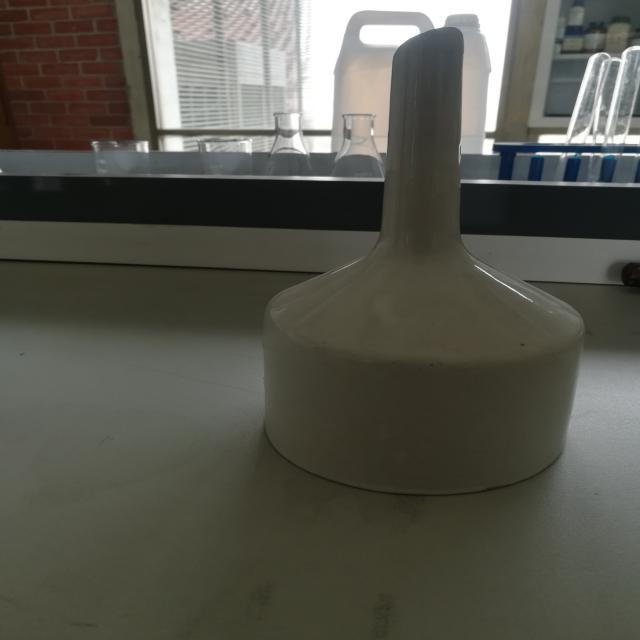Buchner_Funnel: (231, 5, 631, 524)
